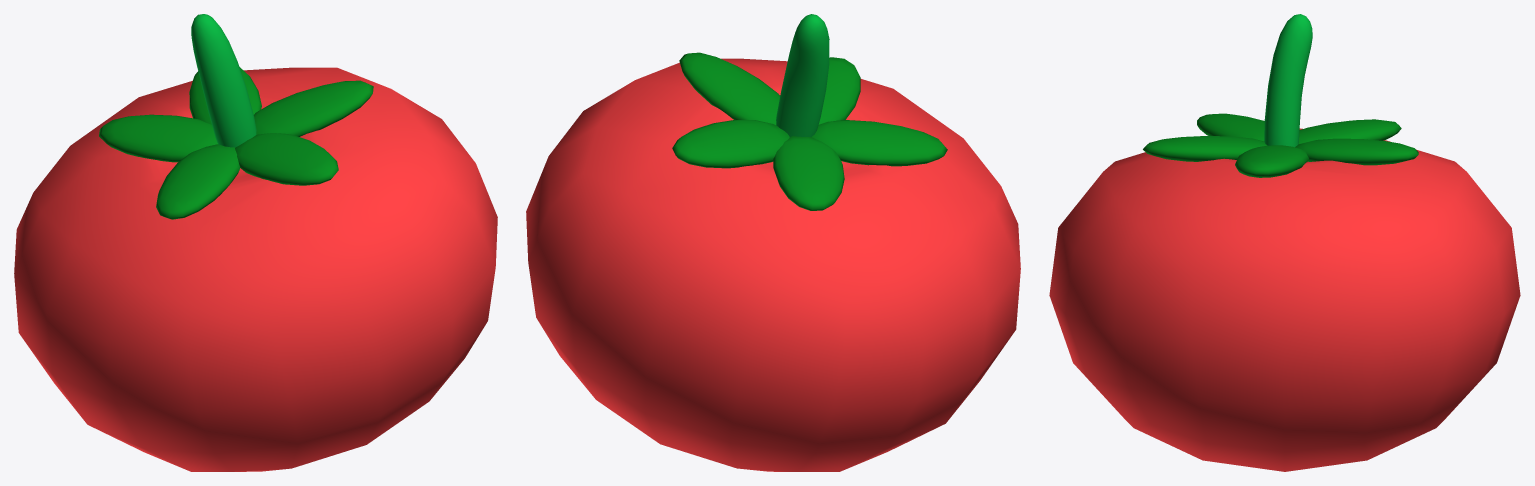
File: BestTomato.glb
The picture shows the model from 3 angles, left to right: view 1: azimuth 30°, elevation 25°; view 2: azimuth 150°, elevation 25°; view 3: azimuth 270°, elevation 25°; orthographic projection. The views are drawn at different scales.
Parts seen in each view (by area): view 1: Tomato1.028; view 2: Tomato1.028; view 3: Tomato1.028.
Part boxes in pixels (x1,y1,x2,y2): Tomato1.028: (14, 14, 497, 471); Tomato1.028: (526, 14, 1020, 471); Tomato1.028: (1049, 14, 1520, 471).
Size of the model in its own units: 0.1263 by 0.1252 by 0.1276.
